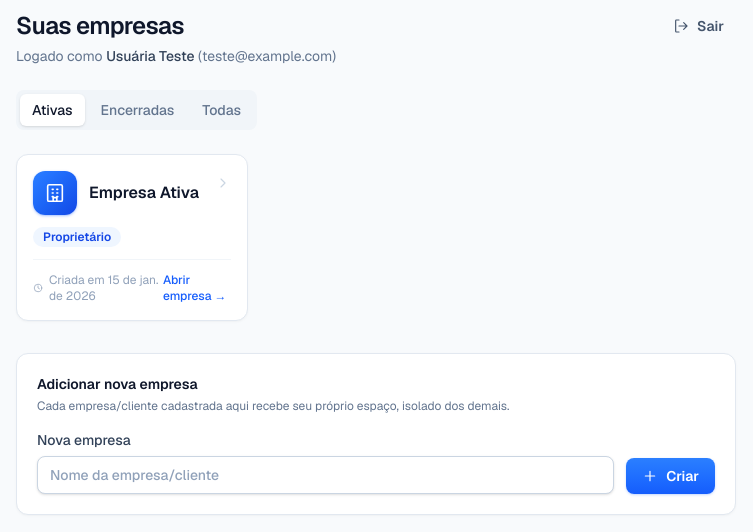
OrganizationsPage › permite trocar de aba entre Ativas/Encerradas/Todas
Expected: the text "Empresa Ativa" is shown, [89,181,199,205]
Click the tab "Encerradas" at (138, 110), box [89,94,186,126]
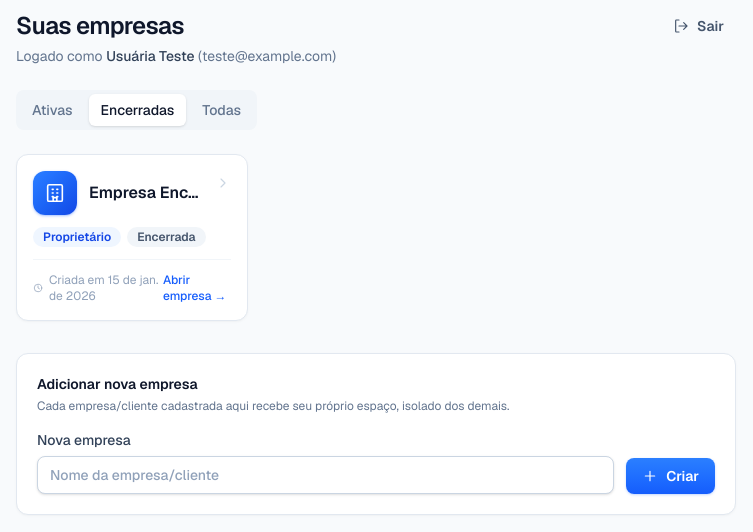
Result: the text "Empresa Encerrada" is shown at [89,181,203,205]
Result: the link "Empresa Ativa" is gone
